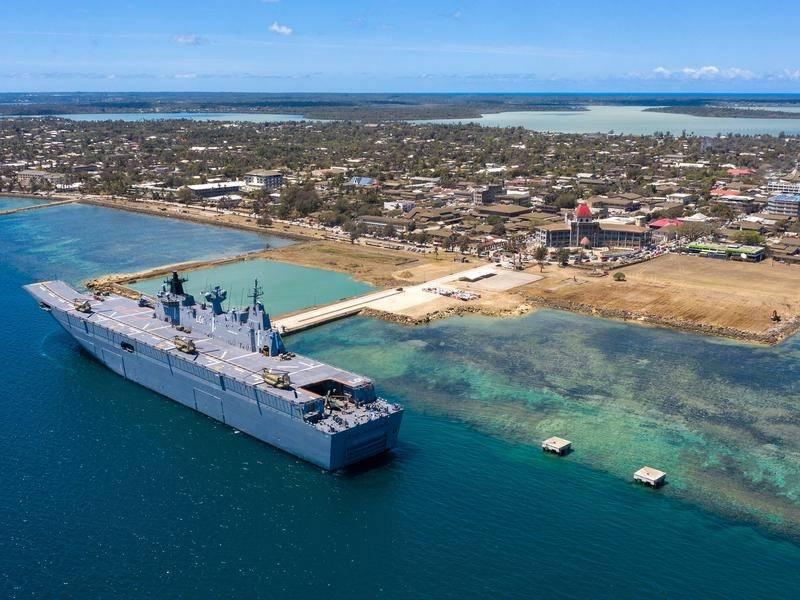Ship: (15, 256, 408, 473)
